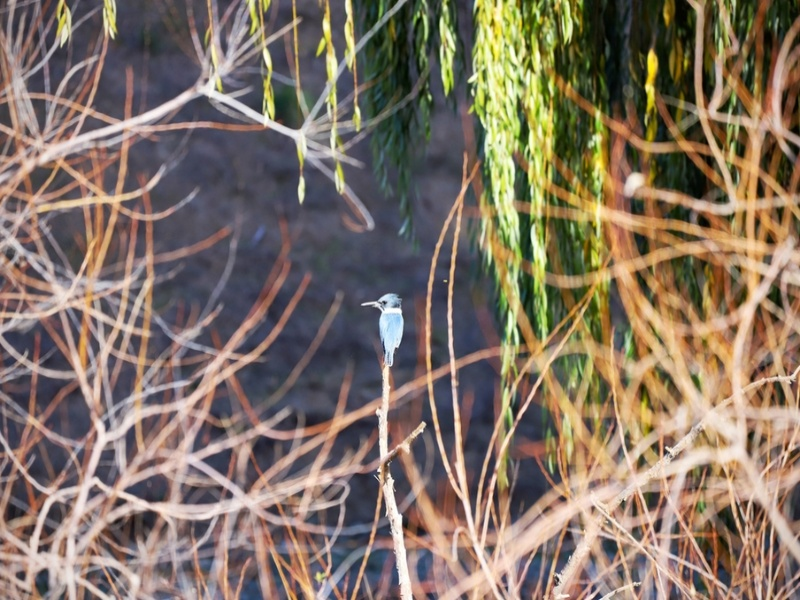kingfisher: (360, 291, 410, 370)
